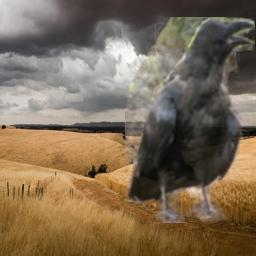Crow: (125, 17, 255, 223)
